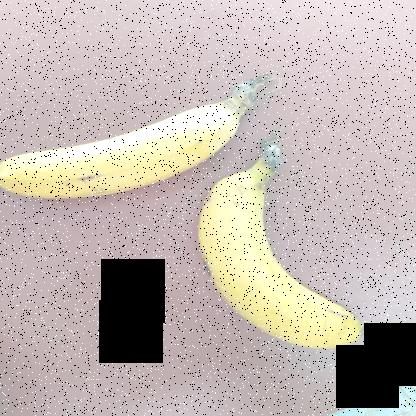freshripe: (192, 163, 367, 359), (0, 109, 239, 213)
